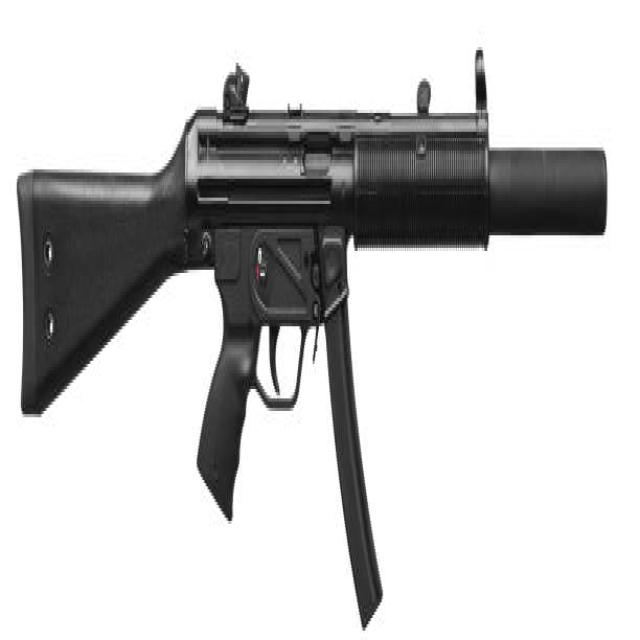rifle: (14, 31, 614, 640)
